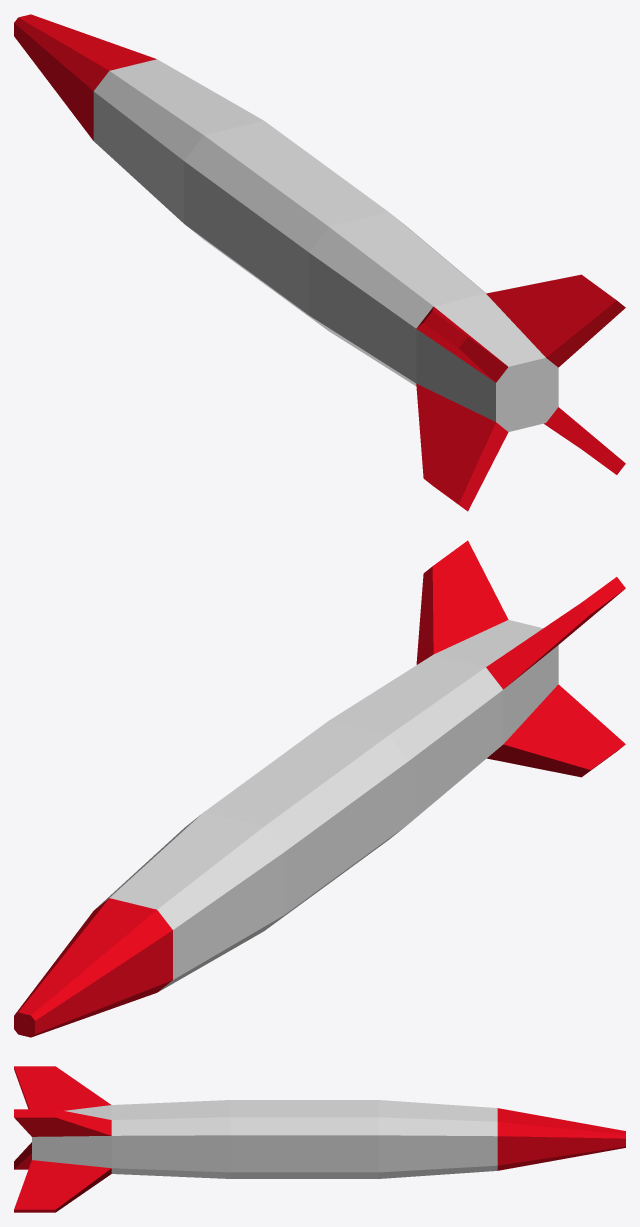
File: missile.fbx
3 renders of one model, top to bottom at view 1: azimuth 30°, elevation 25°; view 2: azimuth 150°, elevation 25°; view 3: azimuth 270°, elevation 25°, orthographic. The views are drawn at different scales.
Visible parts, largest first — view 1: MIssile; view 2: MIssile; view 3: MIssile.
Part boxes in pixels (box(x1,y1,x2,y2)): MIssile: box(14, 14, 625, 511); MIssile: box(14, 540, 625, 1037); MIssile: box(14, 1066, 625, 1212).
Size of the model in its own units: 38.38 by 38.38 by 206.
